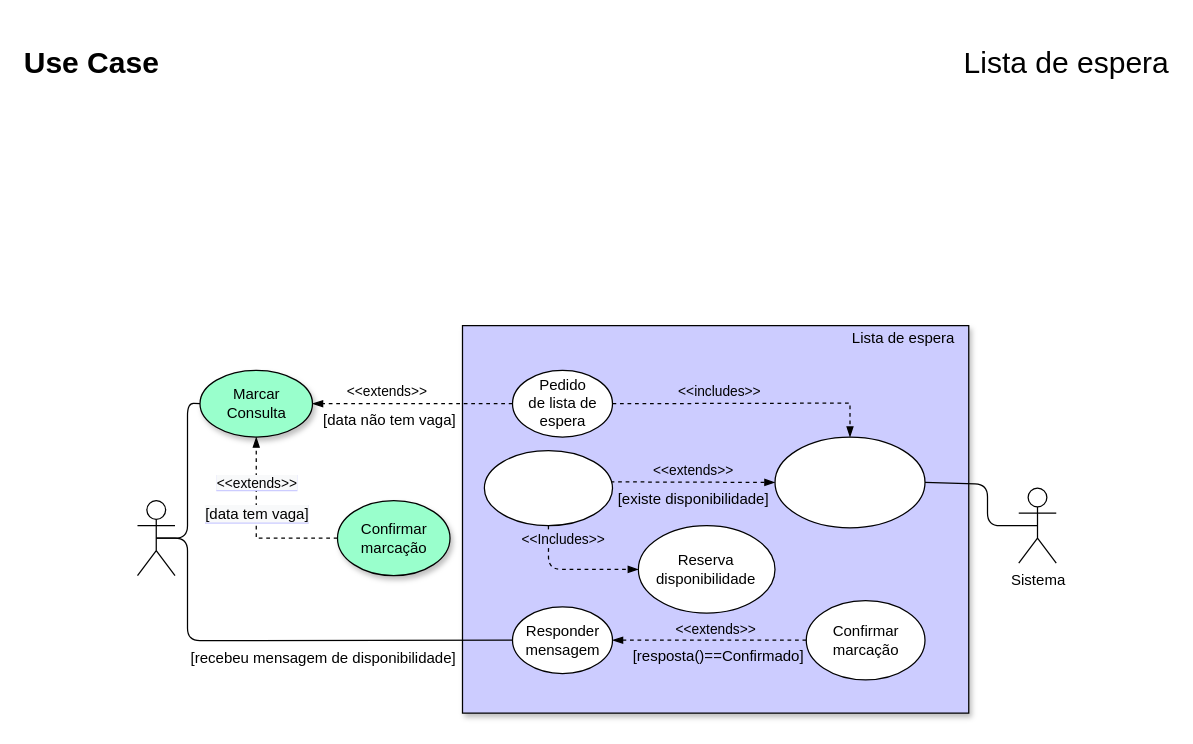
Some shapes in this 1193 by 744 pixel diagram are drawn without their labels. The centre of each missing label's shape, as x and y in pixels:
Enviar mensagem de disponibilidade: (547,487)
Utente: (155,537)
Verificação de disponiblidade: (849,482)
